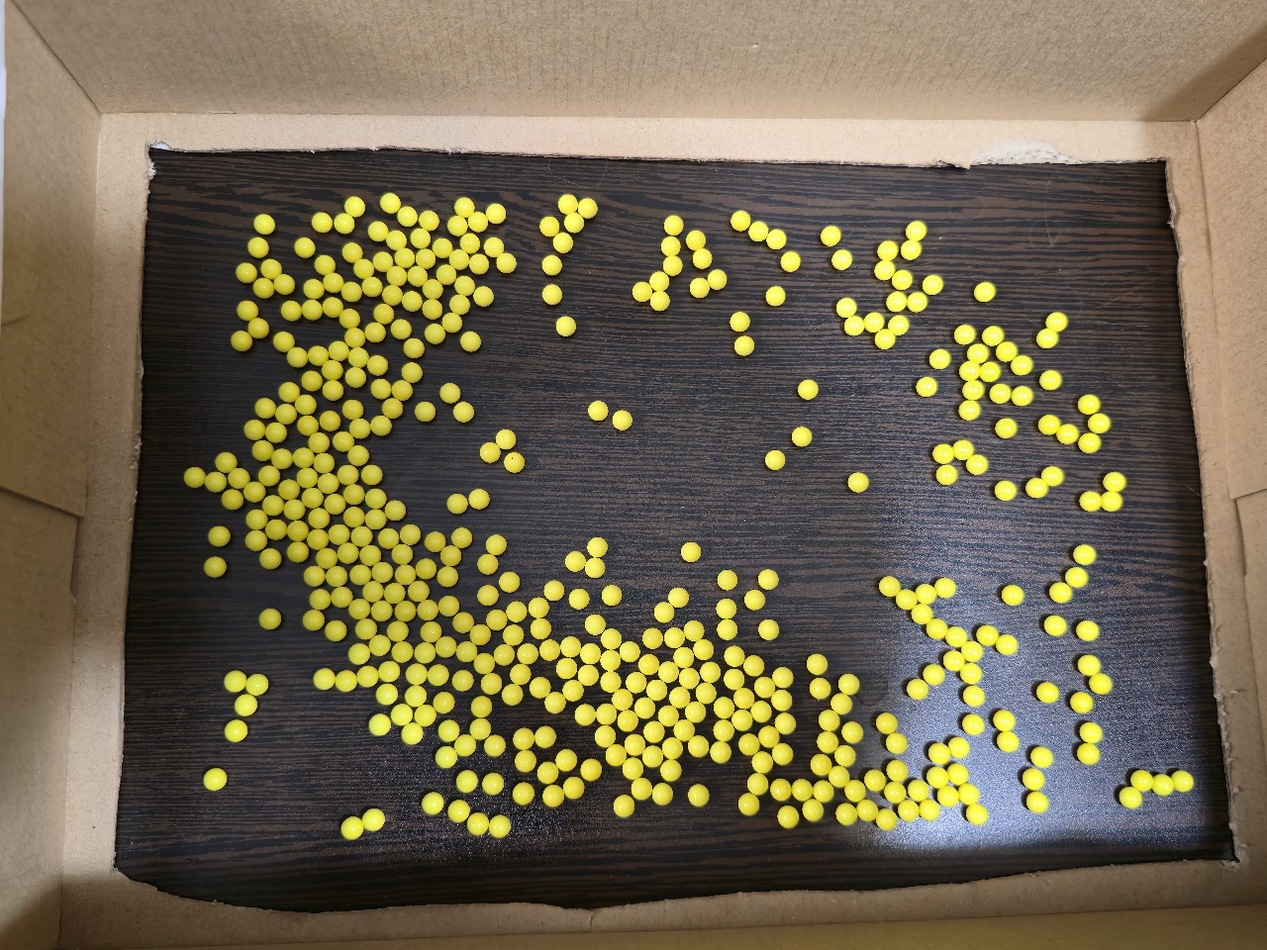yellow_bead: (209, 773, 222, 786), (367, 813, 379, 826), (1124, 792, 1137, 804), (1027, 773, 1039, 786), (230, 725, 243, 737), (1041, 687, 1054, 699), (971, 808, 983, 820), (913, 785, 925, 797), (846, 726, 858, 738), (967, 718, 979, 730), (251, 679, 263, 691), (965, 668, 977, 680), (346, 821, 357, 834), (472, 817, 483, 830), (461, 775, 472, 788), (892, 765, 903, 778), (1035, 752, 1048, 763), (1083, 660, 1096, 671), (1078, 549, 1091, 560), (494, 820, 505, 832), (453, 805, 464, 817), (427, 798, 439, 809), (1031, 797, 1043, 808), (518, 788, 529, 800), (487, 778, 498, 790), (1136, 776, 1148, 787), (931, 772, 943, 783), (440, 751, 451, 763), (933, 748, 944, 760), (716, 746, 727, 758), (693, 740, 704, 752), (459, 739, 470, 751), (1085, 727, 1097, 738), (407, 727, 418, 739), (374, 718, 385, 730), (881, 717, 893, 728), (396, 709, 408, 720), (835, 699, 847, 710), (968, 691, 980, 702), (410, 691, 422, 702), (912, 684, 924, 695), (966, 646, 978, 657), (1082, 625, 1094, 636), (1049, 620, 1061, 631), (884, 581, 896, 592), (1109, 477, 1121, 488), (972, 348, 984, 359), (868, 317, 880, 328), (911, 226, 922, 238), (881, 813, 891, 826), (1054, 588, 1067, 598), (1070, 572, 1083, 582), (1000, 486, 1013, 496), (1046, 471, 1059, 481), (903, 805, 914, 816), (547, 790, 558, 801), (890, 787, 901, 798), (1178, 776, 1189, 787), (757, 757, 768, 768), (520, 756, 531, 767), (647, 751, 658, 762), (1084, 749, 1095, 760), (953, 742, 964, 753), (489, 740, 500, 751), (892, 738, 903, 749), (539, 731, 550, 742), (648, 726, 659, 737), (443, 725, 454, 736), (420, 710, 431, 721), (776, 695, 787, 706), (674, 692, 685, 703), (381, 689, 392, 700), (651, 685, 662, 696), (815, 683, 826, 694), (759, 682, 770, 693), (843, 679, 854, 690), (230, 676, 241, 687), (319, 674, 330, 685), (362, 671, 373, 682), (928, 669, 939, 680), (411, 669, 422, 680), (948, 655, 959, 666), (585, 648, 596, 659), (353, 648, 364, 659), (420, 647, 431, 658), (565, 641, 576, 652), (374, 640, 385, 651), (1002, 639, 1013, 650), (951, 631, 962, 642), (982, 630, 993, 641), (931, 623, 942, 634), (360, 623, 371, 634), (389, 588, 400, 599), (413, 586, 424, 597), (1085, 496, 1096, 507), (927, 279, 938, 290), (880, 264, 891, 275), (906, 244, 917, 255), (841, 808, 851, 820), (657, 788, 667, 800), (850, 785, 860, 797), (1158, 779, 1168, 791), (869, 775, 879, 787), (840, 750, 850, 762), (777, 748, 787, 760), (600, 730, 610, 742), (679, 724, 689, 736), (780, 717, 790, 729), (580, 710, 592, 720), (241, 700, 251, 712), (606, 676, 616, 688), (606, 655, 616, 667), (941, 470, 953, 480), (1084, 437, 1096, 447), (1045, 375, 1057, 385), (1016, 360, 1028, 370), (1001, 346, 1013, 356), (1051, 317, 1063, 327), (979, 287, 991, 297), (1093, 419, 1106, 428), (1041, 333, 1054, 342), (783, 811, 793, 822), (619, 801, 629, 812), (568, 782, 578, 793), (542, 767, 552, 778), (665, 765, 675, 776), (561, 755, 571, 766), (1003, 737, 1014, 747), (719, 725, 729, 736), (475, 723, 485, 734), (999, 715, 1010, 725), (736, 715, 747, 725), (824, 714, 834, 725), (690, 707, 701, 717), (756, 706, 766, 717), (617, 695, 627, 706), (738, 693, 748, 704), (507, 689, 517, 700), (568, 685, 578, 696), (486, 678, 496, 689), (631, 677, 641, 688), (341, 676, 351, 687), (729, 674, 739, 685), (778, 672, 788, 683), (583, 670, 593, 681), (433, 670, 443, 681), (705, 667, 715, 678), (663, 667, 674, 677), (384, 666, 394, 677), (561, 663, 571, 674), (812, 659, 822, 670), (643, 659, 653, 670), (479, 658, 489, 669), (679, 652, 689, 663), (397, 647, 408, 657), (461, 646, 471, 657), (544, 645, 555, 655), (440, 642, 451, 652), (606, 633, 616, 644), (669, 632, 679, 643), (331, 625, 341, 636), (763, 624, 774, 634), (511, 607, 522, 617), (400, 606, 410, 617), (423, 605, 433, 616), (354, 604, 364, 615), (443, 601, 453, 612), (901, 595, 912, 605), (921, 589, 931, 600), (368, 586, 378, 597), (377, 567, 388, 577), (491, 539, 501, 550), (1108, 496, 1118, 507), (958, 445, 969, 455), (1063, 428, 1074, 438), (1017, 391, 1028, 401), (986, 366, 996, 377), (964, 366, 975, 376), (934, 354, 945, 364), (880, 334, 891, 344), (894, 320, 904, 331), (841, 303, 852, 313), (654, 277, 664, 288), (317, 218, 328, 228), (693, 790, 702, 802), (819, 786, 828, 798), (636, 783, 645, 795), (752, 778, 761, 790), (667, 742, 676, 754), (439, 697, 448, 709), (964, 406, 976, 415), (968, 386, 980, 395), (959, 330, 971, 339), (883, 245, 892, 257), (663, 711, 673, 721), (601, 709, 611, 719), (639, 703, 649, 713), (457, 676, 467, 686), (684, 674, 694, 684), (499, 649, 509, 659), (647, 633, 657, 643), (508, 630, 518, 640), (426, 627, 436, 637), (392, 626, 402, 636), (590, 619, 600, 629), (308, 615, 318, 625), (265, 614, 275, 624), (376, 606, 386, 616), (749, 595, 759, 605), (574, 594, 584, 604), (673, 593, 683, 603), (940, 583, 950, 593), (763, 575, 773, 585), (309, 571, 319, 581), (400, 570, 410, 580), (570, 556, 580, 566), (265, 553, 275, 563), (365, 550, 375, 560), (397, 549, 407, 559), (356, 531, 366, 541), (405, 529, 415, 539), (390, 506, 400, 516), (452, 499, 462, 509), (323, 479, 333, 489), (234, 473, 244, 483), (342, 470, 352, 480), (277, 454, 287, 464), (938, 449, 948, 459), (458, 407, 468, 417), (593, 406, 603, 416), (372, 360, 382, 370), (849, 321, 859, 331), (913, 297, 923, 307), (279, 279, 289, 289), (320, 260, 330, 270), (837, 254, 847, 264), (454, 254, 464, 264), (347, 247, 357, 257), (489, 242, 499, 252), (300, 242, 310, 252), (771, 234, 781, 244), (373, 227, 383, 237), (452, 221, 462, 231), (569, 218, 579, 228), (424, 216, 434, 226), (403, 212, 413, 222), (349, 202, 359, 212), (385, 198, 395, 208), (808, 806, 819, 815), (862, 805, 871, 816), (942, 793, 953, 802), (965, 789, 974, 800), (628, 763, 637, 774), (630, 739, 639, 750), (823, 737, 832, 748), (519, 733, 528, 744), (701, 688, 710, 699), (730, 651, 739, 662), (523, 648, 532, 659), (625, 646, 634, 657), (659, 607, 668, 618), (1008, 590, 1019, 599), (332, 571, 341, 582), (995, 389, 1006, 398), (892, 296, 901, 307), (655, 295, 664, 306), (666, 241, 675, 252), (669, 220, 678, 231), (563, 199, 572, 210), (798, 784, 806, 796), (1001, 424, 1013, 432), (1043, 420, 1055, 428), (719, 702, 728, 712), (476, 702, 485, 712), (550, 698, 559, 708), (535, 683, 544, 693), (516, 669, 525, 679), (698, 646, 708, 655), (475, 630, 484, 640), (458, 617, 467, 627), (491, 615, 501, 624), (917, 610, 927, 619), (722, 604, 731, 614), (315, 595, 324, 605), (607, 590, 616, 600), (504, 577, 514, 586), (442, 572, 452, 581), (355, 570, 364, 580), (590, 563, 600, 572), (211, 562, 221, 571), (483, 559, 492, 569), (445, 550, 455, 559), (342, 548, 351, 558), (593, 542, 602, 552), (251, 535, 261, 544), (456, 533, 466, 542), (384, 533, 394, 542), (334, 529, 343, 539), (370, 515, 380, 524), (289, 505, 298, 515), (330, 499, 339, 509), (474, 494, 483, 504), (370, 494, 380, 503), (853, 478, 863, 487), (211, 477, 221, 486), (319, 458, 328, 468), (770, 455, 780, 464), (485, 447, 494, 457), (314, 438, 324, 447), (501, 434, 510, 444), (797, 432, 807, 441), (387, 404, 397, 413), (300, 400, 310, 409), (445, 388, 454, 398), (803, 385, 813, 394), (328, 385, 337, 395), (376, 384, 385, 394), (922, 382, 932, 391), (407, 368, 417, 377), (353, 352, 363, 361), (409, 343, 419, 352), (739, 341, 749, 350), (465, 336, 475, 345), (447, 318, 456, 328), (735, 317, 744, 327), (428, 304, 437, 314), (454, 300, 464, 309), (407, 297, 417, 306), (771, 291, 780, 301), (388, 290, 397, 300), (637, 287, 647, 296), (346, 287, 355, 297), (713, 274, 722, 284), (413, 271, 422, 281), (392, 271, 402, 280), (359, 264, 369, 273), (266, 264, 276, 273), (668, 260, 677, 270), (378, 257, 388, 266), (786, 256, 795, 266), (400, 253, 410, 262), (253, 242, 262, 252), (465, 238, 474, 248), (391, 236, 401, 245), (826, 231, 836, 240), (754, 227, 763, 237), (259, 220, 269, 229), (473, 217, 482, 227), (491, 209, 501, 218), (583, 203, 592, 213), (459, 203, 469, 212), (836, 771, 844, 782), (586, 764, 594, 775), (743, 739, 751, 750), (763, 731, 771, 742), (926, 806, 935, 815), (337, 593, 346, 602), (483, 591, 492, 600), (549, 586, 558, 595), (422, 564, 431, 573), (686, 547, 695, 556), (215, 531, 224, 540), (315, 514, 324, 523), (268, 501, 277, 510), (265, 471, 274, 480), (618, 416, 627, 425), (281, 409, 290, 418), (421, 407, 430, 416), (260, 404, 269, 413), (350, 372, 359, 381), (292, 352, 301, 361), (279, 336, 288, 345), (561, 322, 570, 331), (379, 309, 388, 318), (286, 306, 295, 315), (479, 292, 488, 301), (547, 290, 556, 299), (428, 284, 437, 293), (309, 284, 318, 293), (695, 283, 704, 292), (367, 282, 376, 291), (460, 281, 469, 290), (329, 278, 338, 287), (547, 260, 556, 269), (474, 259, 483, 268), (502, 258, 511, 267), (698, 254, 707, 263), (421, 254, 430, 263), (416, 234, 425, 243), (736, 216, 745, 225), (623, 716, 631, 726), (723, 624, 731, 634), (534, 603, 542, 613), (723, 575, 731, 585), (366, 470, 376, 478), (221, 457, 231, 465), (1083, 400, 1093, 408), (370, 328, 380, 336), (396, 325, 406, 333), (340, 219, 348, 229), (816, 759, 823, 770), (431, 537, 439, 546), (251, 515, 260, 523), (349, 513, 357, 522), (302, 473, 311, 481), (353, 450, 362, 458), (376, 421, 385, 429), (326, 417, 334, 426), (284, 388, 292, 397), (334, 346, 342, 355), (431, 329, 439, 338), (243, 306, 251, 315), (308, 305, 316, 314), (258, 283, 267, 291), (441, 270, 450, 278), (438, 243, 446, 252), (558, 238, 567, 246), (691, 236, 700, 244), (545, 222, 553, 231), (743, 799, 750, 809), (775, 784, 782, 794), (536, 623, 543, 633), (971, 459, 978, 469), (271, 428, 281, 435), (693, 625, 699, 636), (354, 424, 365, 430), (955, 770, 963, 778), (1099, 679, 1107, 687), (299, 453, 307, 461), (339, 436, 347, 444), (314, 351, 322, 359), (350, 333, 358, 341), (328, 303, 336, 311), (611, 751, 618, 760), (1076, 697, 1085, 704), (308, 493, 317, 500), (348, 490, 357, 497), (397, 385, 406, 392), (344, 314, 353, 321), (1030, 483, 1036, 493), (324, 555, 331, 563), (191, 472, 199, 479), (249, 426, 256, 434), (348, 405, 355, 413), (242, 268, 249, 276), (249, 487, 258, 493), (753, 661, 758, 671), (903, 274, 908, 284), (328, 365, 335, 372), (510, 461, 518, 467), (253, 324, 262, 329), (237, 336, 244, 342), (313, 534, 321, 539), (307, 376, 315, 381), (987, 332, 992, 340), (295, 547, 301, 553), (304, 421, 310, 427), (294, 526, 300, 531), (274, 524, 279, 530), (258, 445, 265, 449), (230, 495, 235, 500), (286, 485, 293, 488)
